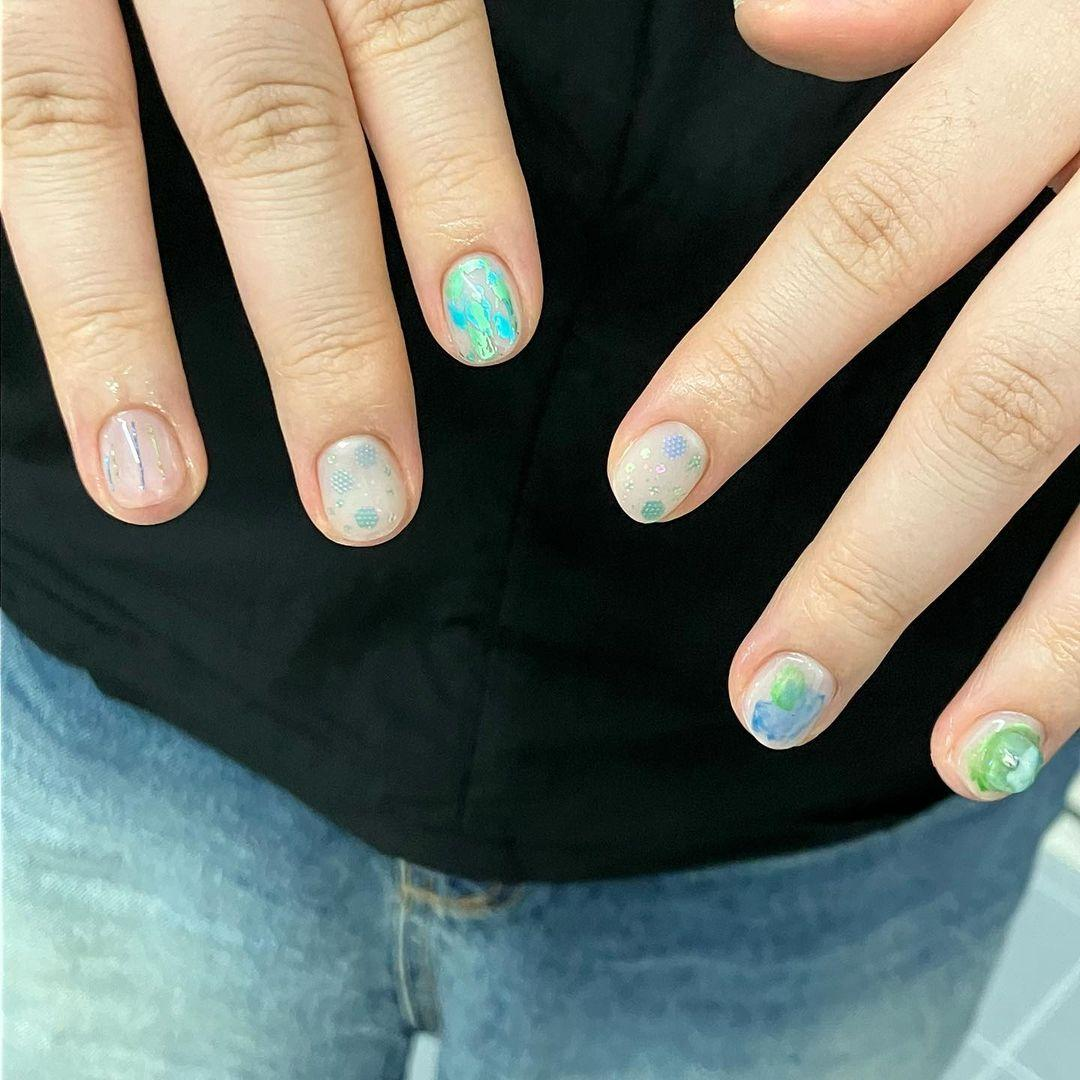nail: (313, 431, 410, 546), (608, 418, 709, 523), (95, 402, 188, 511), (737, 649, 837, 750), (439, 248, 524, 365), (954, 710, 1045, 800)
